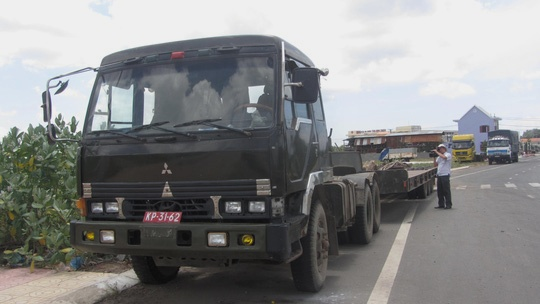plate: (142, 209, 186, 225)
